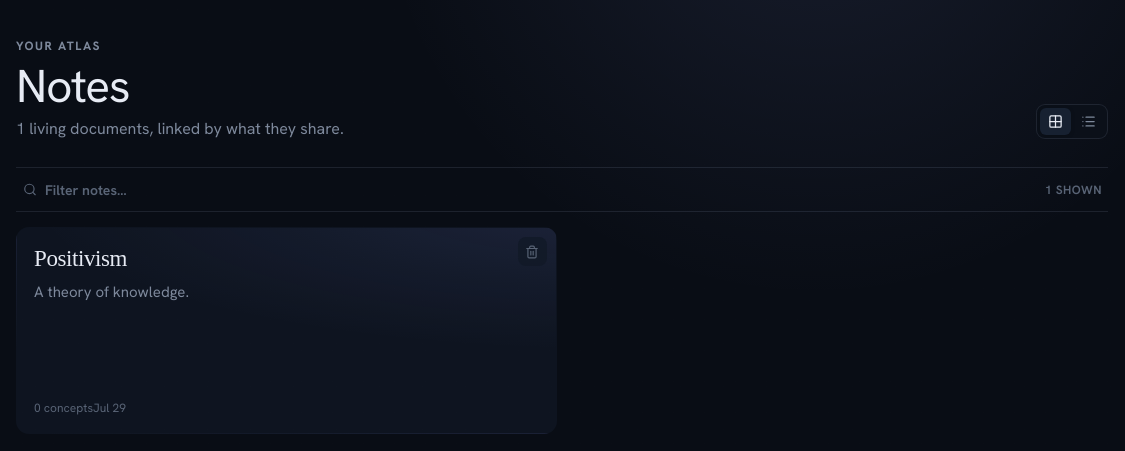
NotesIndex › filters by body text and shows the matching passage
Step 1. Type "observable regularity" into the field labelled "Filter notes" → [194, 190], box top-left (45, 174), bottom-right (343, 206)
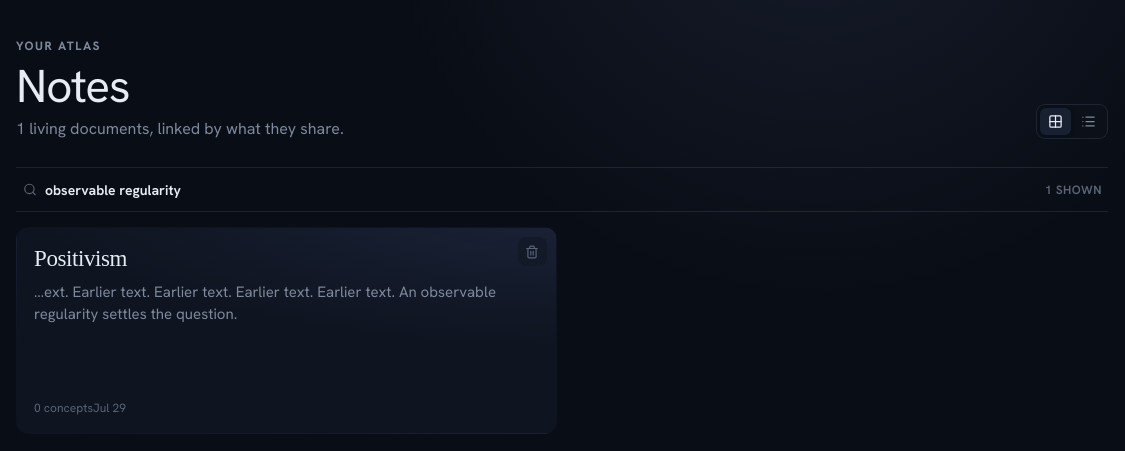
Expected: the text "Positivism" is shown, top-left (34, 245), bottom-right (127, 274)
Expected: the text "An observable regularity settles the question" is shown, top-left (34, 282), bottom-right (496, 324)
Expected: the button "A theory of knowledge." is gone
